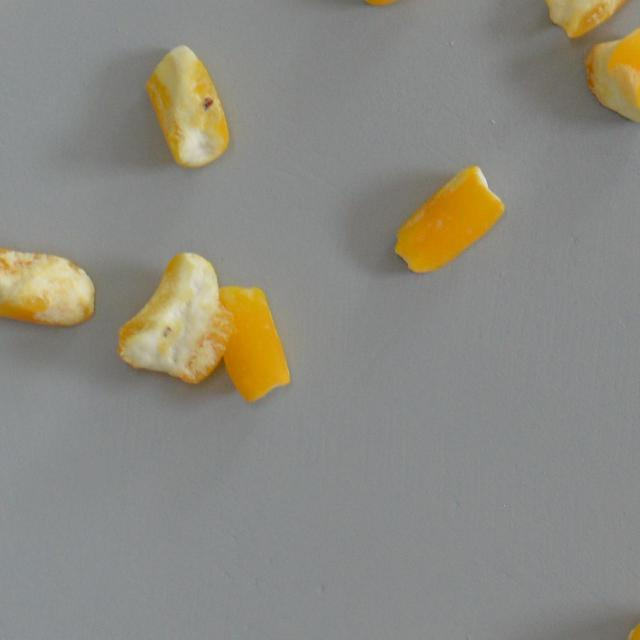estandar: (218, 284, 290, 404), (586, 26, 640, 131), (352, 0, 450, 16)
pelicula: (392, 164, 505, 272), (0, 242, 96, 330)
punto_negro: (112, 250, 234, 385), (140, 44, 234, 170), (539, 0, 640, 41)
